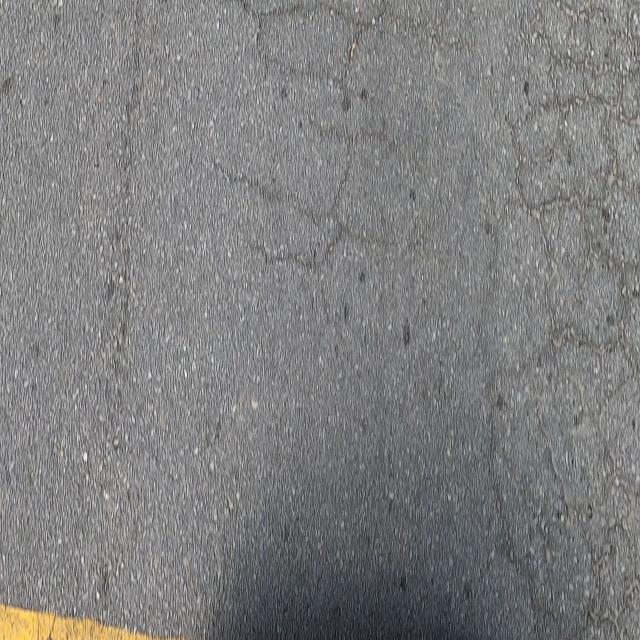Retak-Buaya: (472, 3, 640, 640), (221, 2, 400, 292)
